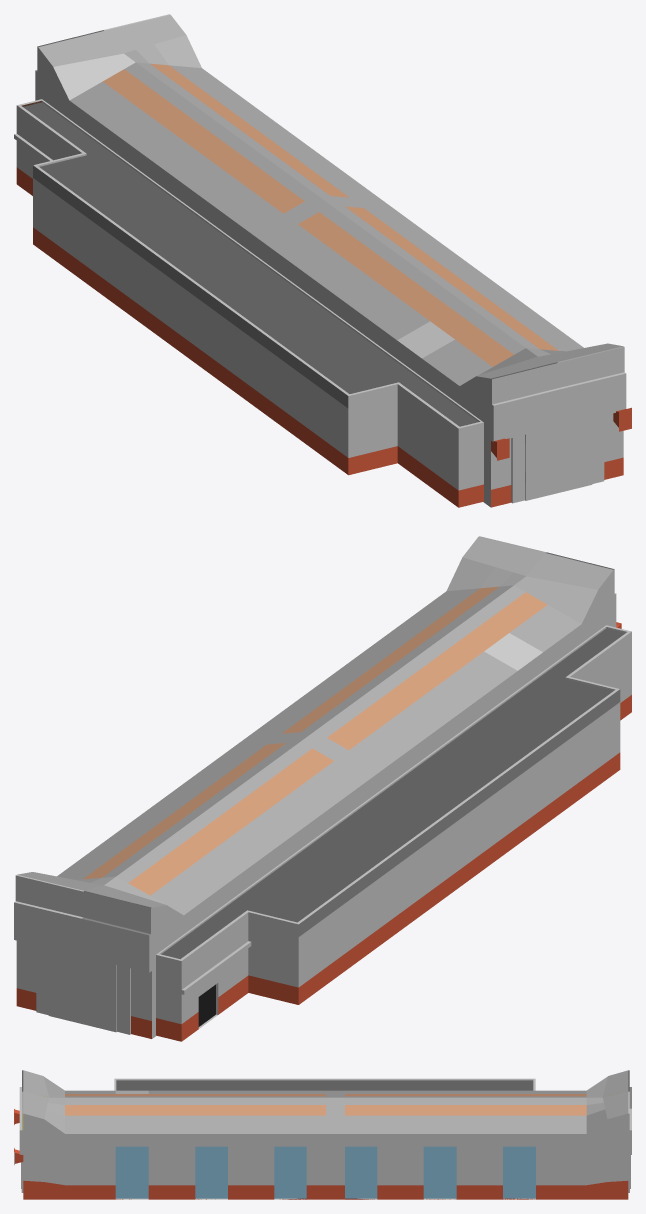
File: damen.fbx
The picture shows the model from 3 angles, top to bottom: view 1: azimuth 30°, elevation 25°; view 2: azimuth 150°, elevation 25°; view 3: azimuth 270°, elevation 25°; orthographic projection. The views are drawn at different scales.
Visible parts, largest first — view 1: Cube, Cube.001; view 2: Cube, Cube.001; view 3: Cube, Cube.001.
Part boxes in pixels (bbox=[...]): Cube: bbox=[35, 14, 631, 507]; Cube.001: bbox=[14, 99, 483, 507]; Cube: bbox=[14, 536, 621, 1038]; Cube.001: bbox=[156, 625, 631, 1041]; Cube: bbox=[14, 1070, 631, 1199]; Cube.001: bbox=[114, 1078, 535, 1090].
Size of the model in its own units: 3580 by 2121 by 13752.
